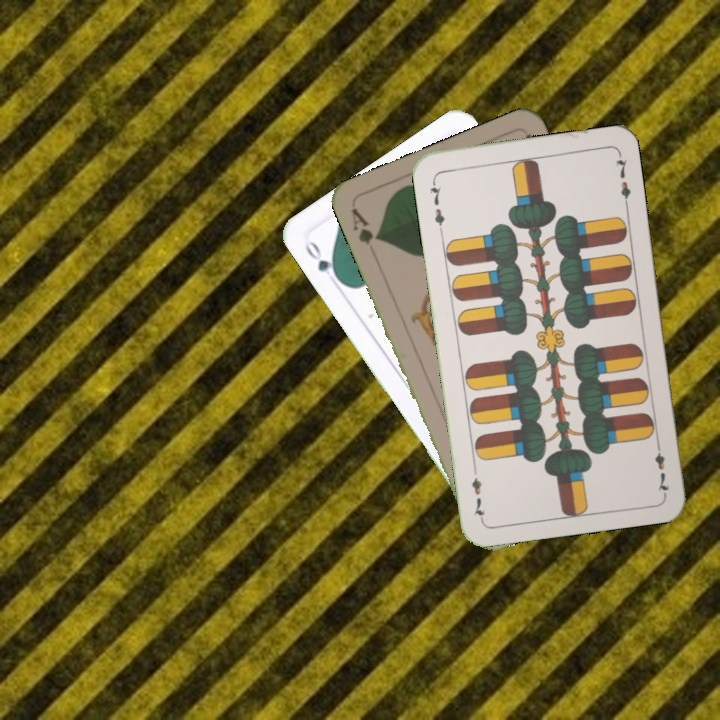E7: (425, 175, 447, 234), (651, 437, 672, 496)
GA: (347, 203, 383, 248)
GO: (300, 235, 344, 285)
